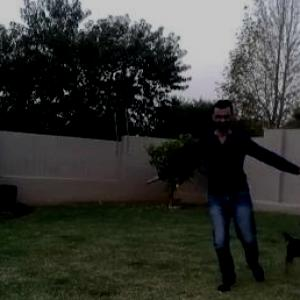land: (142, 104, 299, 287)
